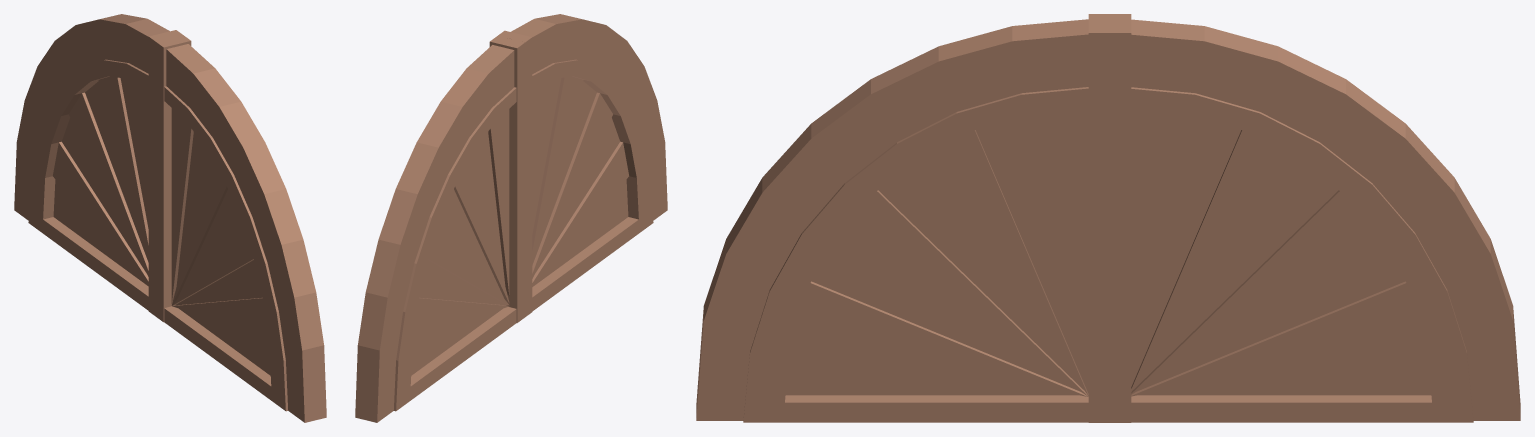
The model's file is BC_Door_Frame.fbx.
The picture shows the model from 3 angles, left to right: view 1: azimuth 30°, elevation 25°; view 2: azimuth 150°, elevation 25°; view 3: azimuth 270°, elevation 25°; orthographic projection. The views are drawn at different scales.
Visible parts, largest first — view 1: BC_Door_Frame; view 2: BC_Door_Frame; view 3: BC_Door_Frame.
Boxes of the visible parts, x1,y1,x2,y2 form: BC_Door_Frame: (14, 14, 326, 422); BC_Door_Frame: (355, 14, 667, 422); BC_Door_Frame: (696, 14, 1520, 422).
Bounding box in the file's own units: 25.38 × 242 × 464.
